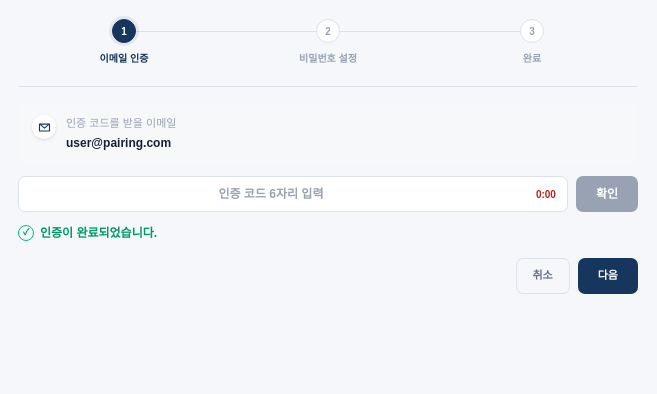
Test: 이메일 인증 완료 후 비밀번호 변경에 성공하면 완료 화면을 보여준다
Click the button "다음".
click(608, 276)  # box [578,258,638,294]
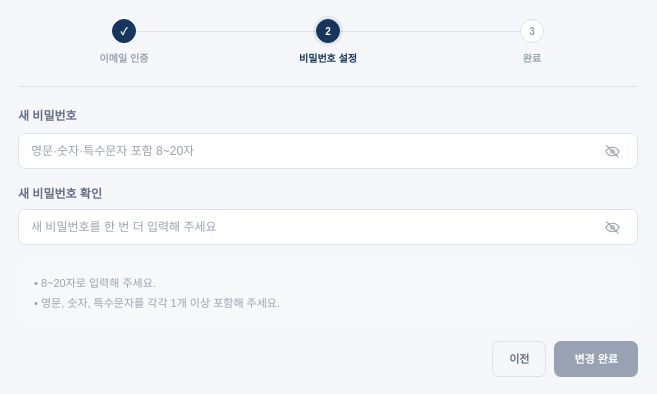
Type "Passw0rd!" into the password field labelled "새 비밀번호".
click(328, 151); type("Passw0rd!")  # box [18,133,638,169]
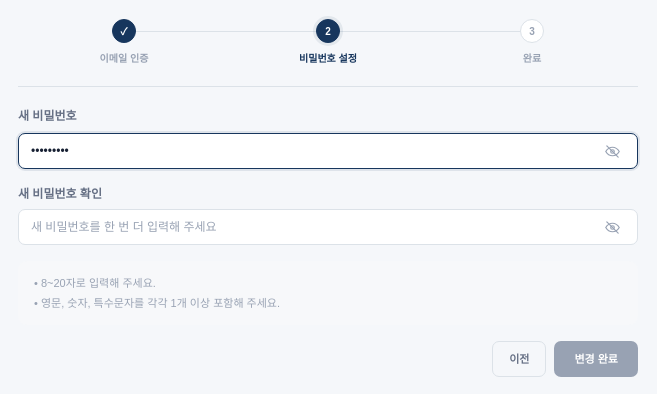
Type "Passw0rd!" into the password field labelled "새 비밀번호 확인".
click(328, 227); type("Passw0rd!")  # box [18,209,638,245]
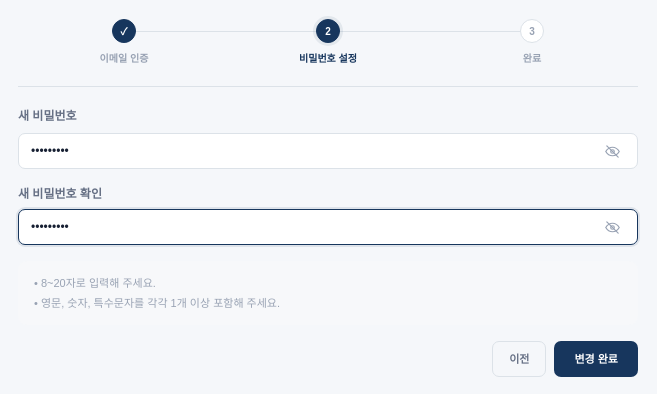
Click the button "변경 완료".
click(596, 359)  # box [554,341,638,377]
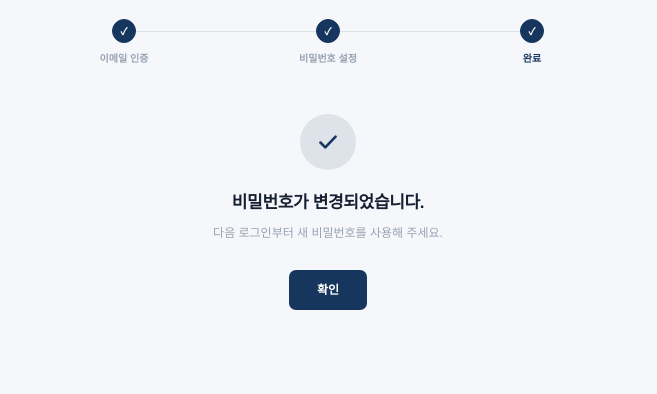
Expected: the text "비밀번호가 변경되었습니다." is shown, [232,190,424,216]
